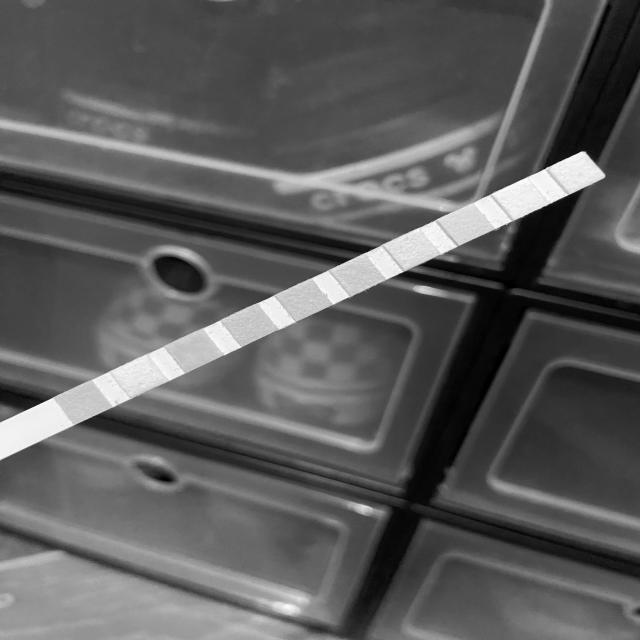Bilirubin: (125, 363, 154, 388)
Blood: (291, 288, 317, 312)
Glucose: (68, 391, 99, 414)
Ketone: (182, 338, 207, 363)
Leukocytes: (564, 160, 592, 185)
Nitrite: (507, 186, 536, 210)
Protein: (398, 238, 425, 262)
SpGravity: (235, 313, 264, 337)
Urobilinogen: (453, 212, 479, 236)
background: (0, 0, 640, 640)
pH: (345, 263, 371, 287)
strip: (0, 152, 605, 460)
